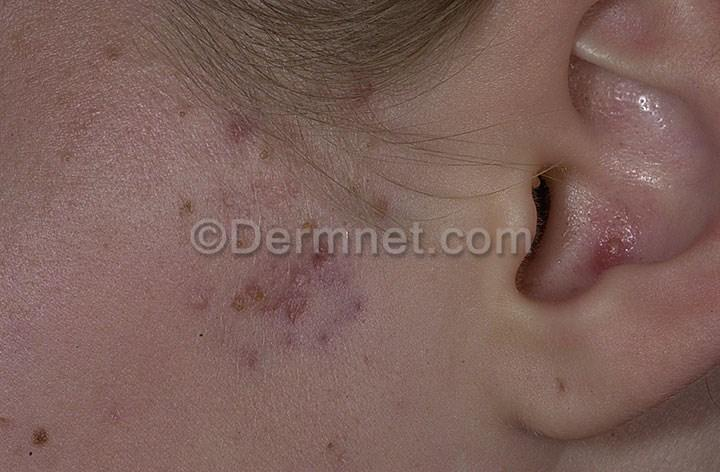Acne: (287, 219, 346, 390), (226, 243, 307, 362), (9, 389, 77, 467), (228, 100, 279, 185), (169, 253, 198, 316)
